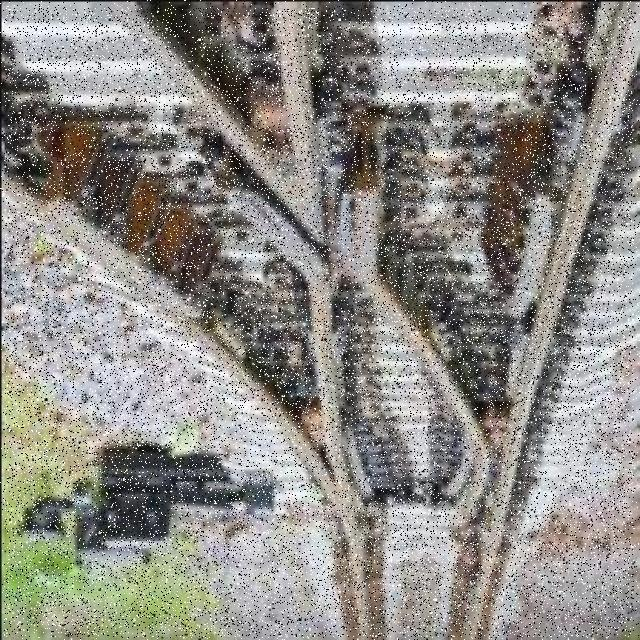rail: (5, 8, 634, 637)
